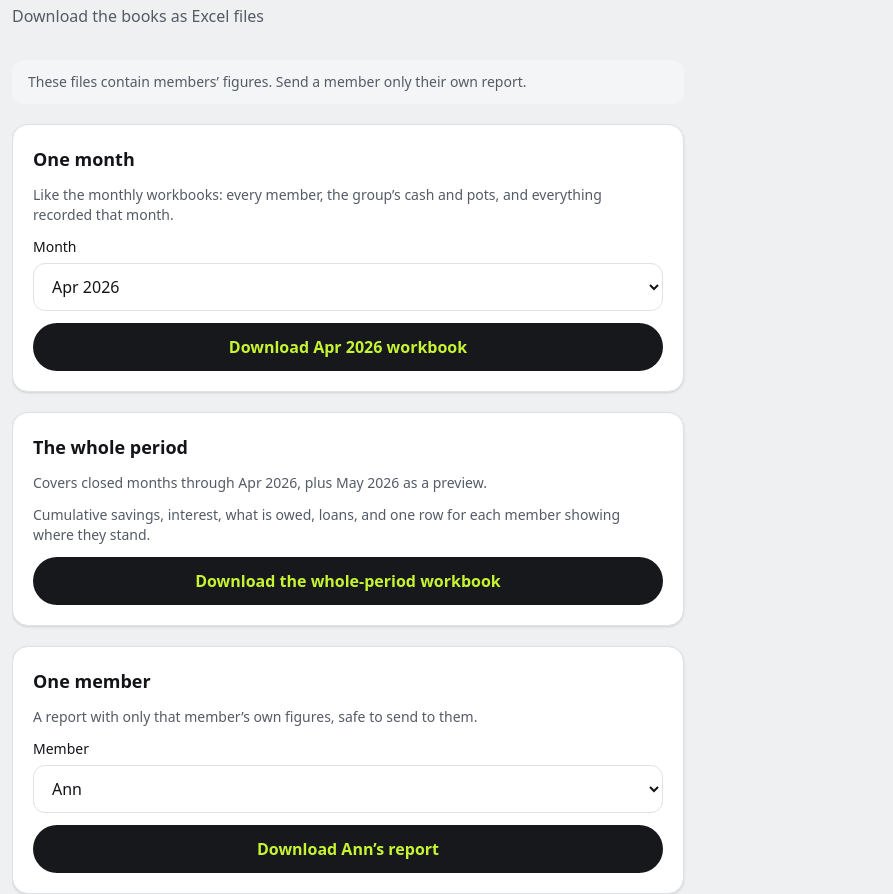
a member’s report: active members only, alphabetical, and the button names them
(page scrolled)
Click the button "Download Ann’s report".
click(348, 849)  # box [33, 825, 663, 873]
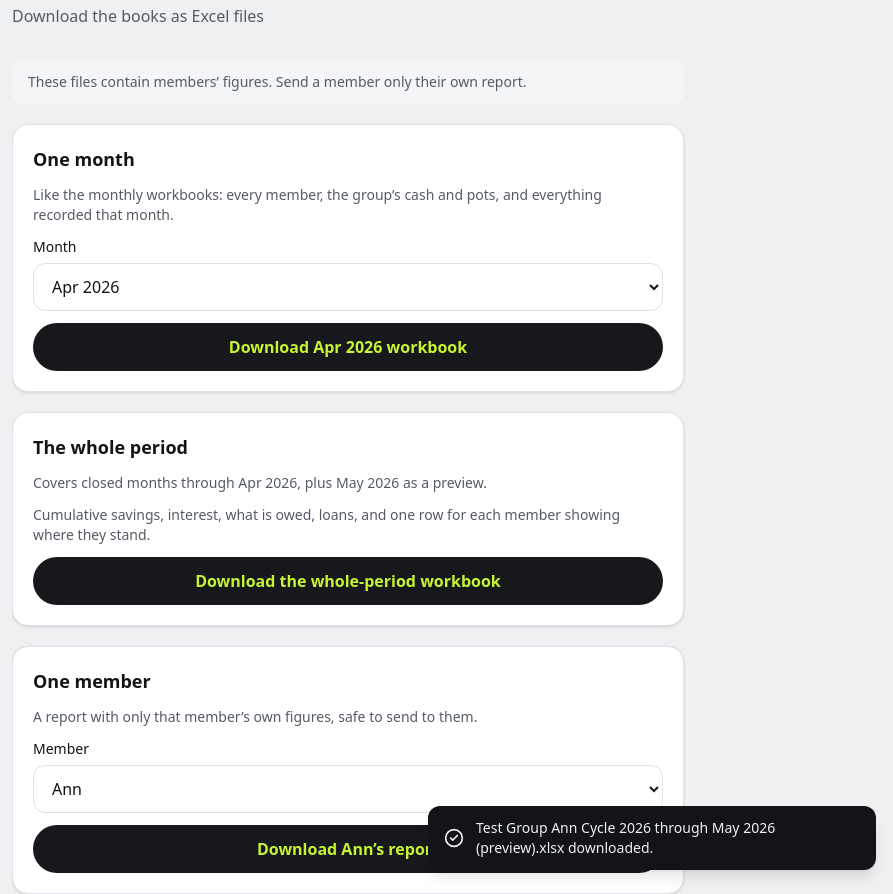
Select "Eve" in the dropdown labelled "Member" at (348, 789), box [33, 765, 663, 813]
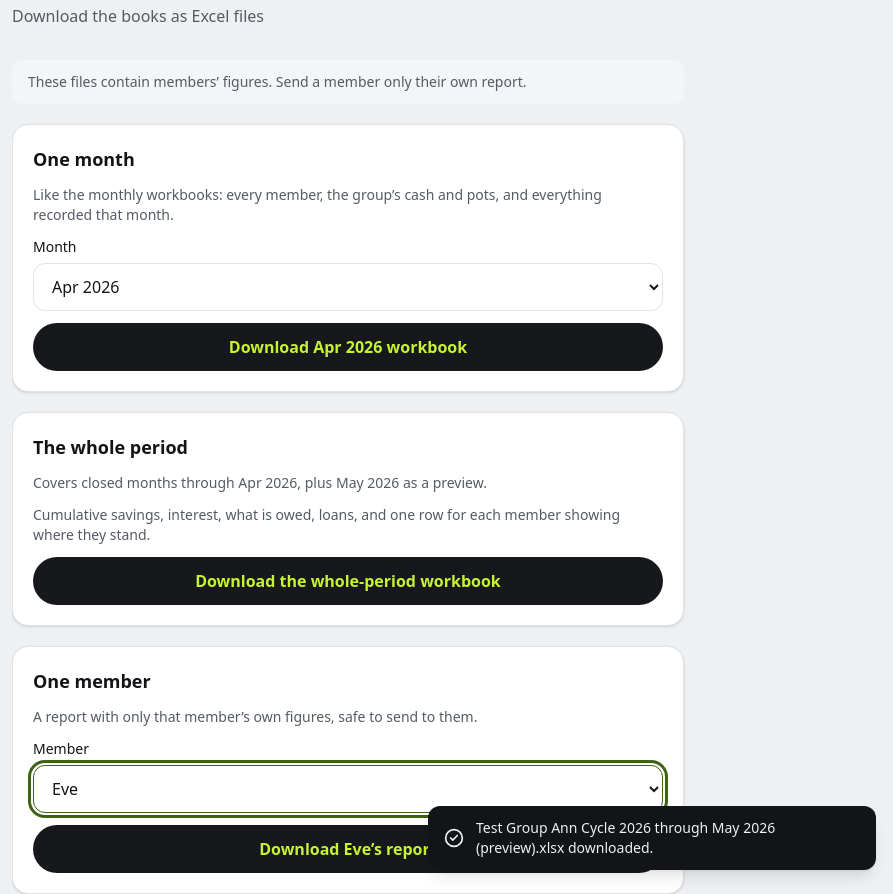
expect the button "Download Eve’s report" is shown: met, box [33, 825, 663, 873]
